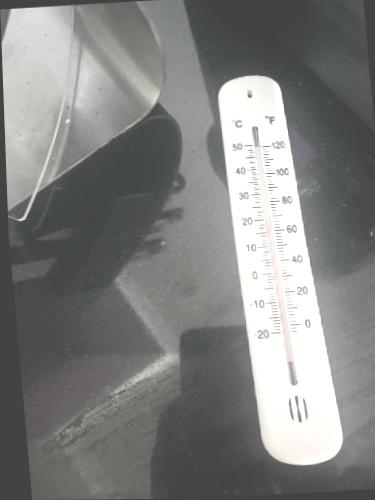thermo: (216, 69, 347, 465)
